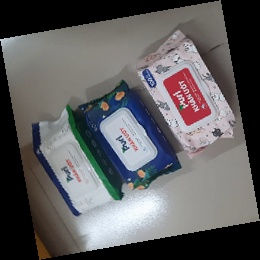Puri Trang: (30, 104, 125, 219)
Puri Xanh: (77, 80, 183, 193)
Puri hong: (136, 29, 237, 159)
